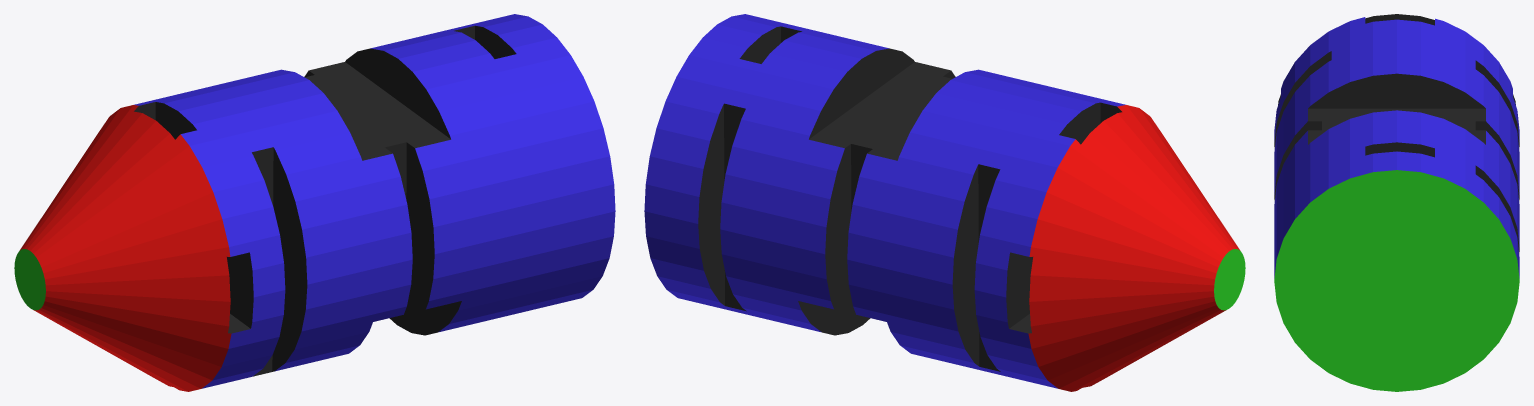
The model's file is naboj.glb.
3 renders of one model, left to right at view 1: azimuth 30°, elevation 25°; view 2: azimuth 150°, elevation 25°; view 3: azimuth 270°, elevation 25°, orthographic. The views are drawn at different scales.
Visible parts, largest first — view 1: naboj; view 2: naboj; view 3: naboj.
Boxes of the visible parts, left/top/right/bottom form: naboj: left=14, top=14, right=615, bottom=391; naboj: left=644, top=14, right=1245, bottom=391; naboj: left=1274, top=14, right=1519, bottom=391.
Size of the model in its own units: 0.8072 by 0.403 by 0.4.
